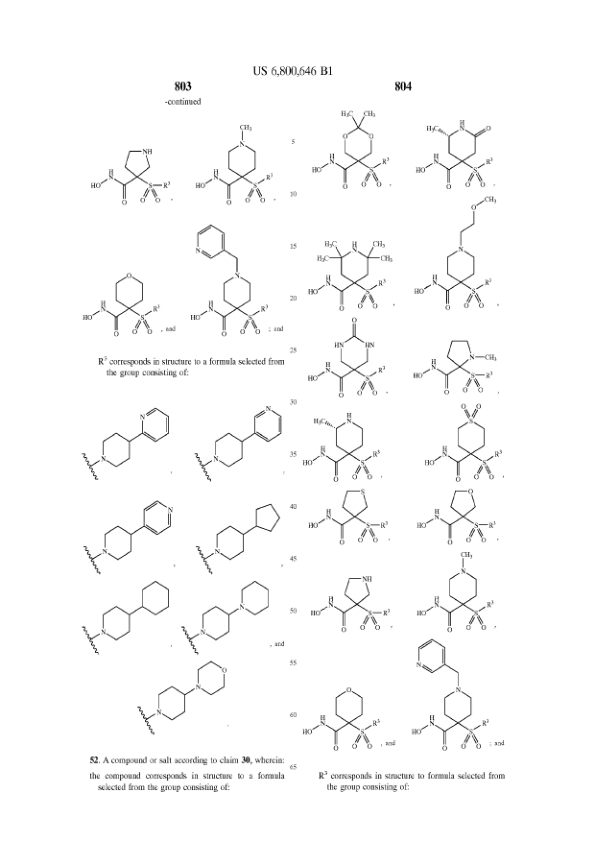compound-structure: (413, 196, 507, 319), (409, 637, 506, 752), (184, 221, 272, 342), (303, 213, 394, 314), (73, 405, 185, 483), (189, 396, 284, 486), (136, 661, 236, 742), (68, 500, 176, 574), (193, 123, 276, 213), (313, 104, 396, 193), (78, 579, 172, 655), (414, 549, 498, 634), (306, 316, 388, 403), (76, 258, 164, 339), (299, 685, 397, 757), (417, 403, 507, 481), (413, 327, 513, 396), (183, 578, 271, 656), (89, 133, 174, 213), (415, 114, 501, 193), (195, 500, 278, 576), (302, 406, 383, 482), (307, 564, 395, 633), (306, 484, 393, 547), (414, 489, 502, 546)
